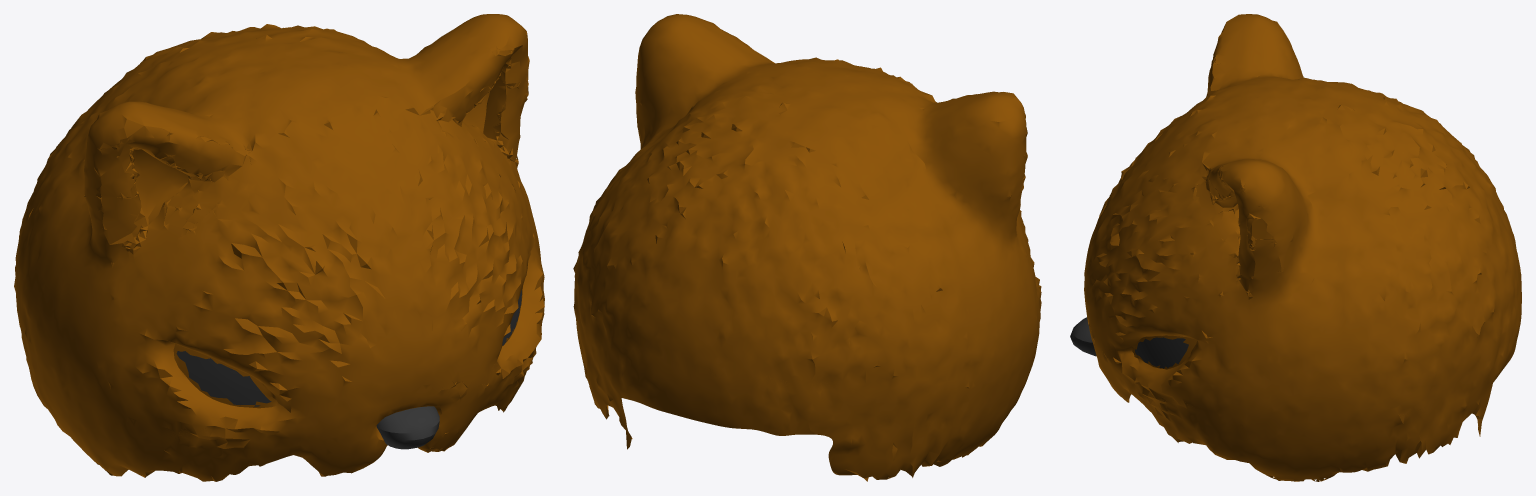
File: SquirrelMask.glb
3 renders of one model, left to right at view 1: azimuth 30°, elevation 25°; view 2: azimuth 150°, elevation 25°; view 3: azimuth 270°, elevation 25°, orthographic. The views are drawn at different scales.
Parts seen in each view (by area): view 1: Fur, Black; view 2: Fur; view 3: Fur, Black.
Part boxes in pixels (x1,y1,x2,y2): Fur: (14,14,544,481); Black: (176,290,521,449); Fur: (573,14,1041,481); Fur: (1084,14,1521,481); Black: (1070,317,1188,368).
Bounding box in the file's own units: 0.7592 × 0.6142 × 0.7884.
